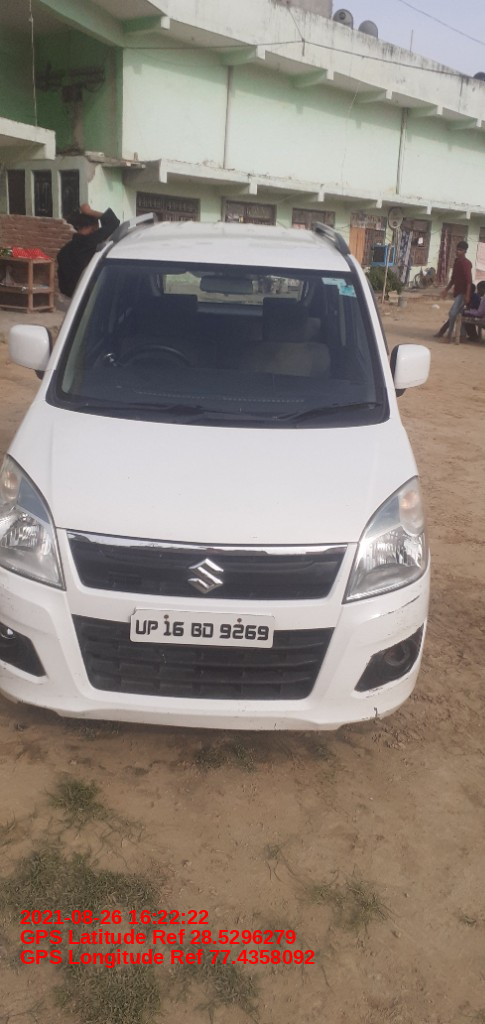Scratched: (362, 673, 413, 700), (380, 589, 424, 615), (370, 705, 382, 721), (271, 719, 281, 731)
